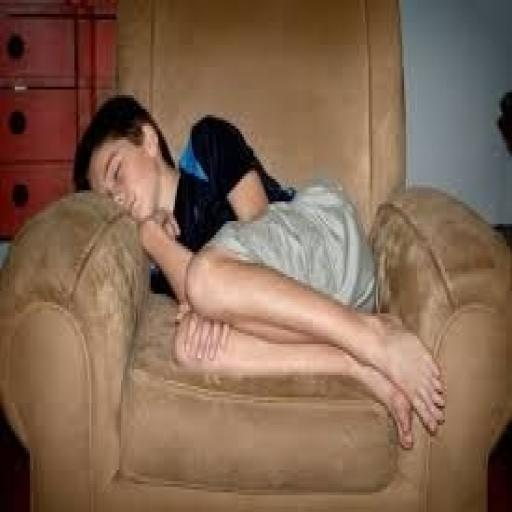sleeping: (69, 90, 449, 450)
